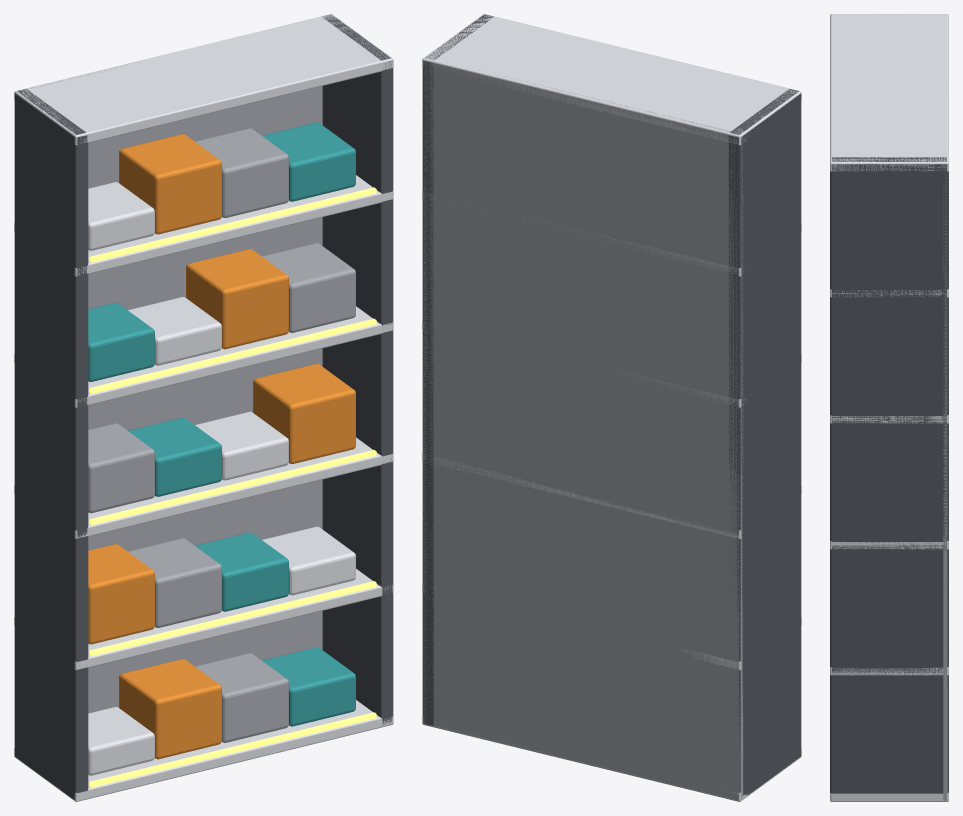
File: bookshelf_open_grid.glb
3 views of the same model, side by side, from view 1: azimuth 30°, elevation 25°; view 2: azimuth 150°, elevation 25°; view 3: azimuth 270°, elevation 25° (orthographic). The views are drawn at different scales.
Parts seen in each view (by area): view 1: GD_bookshelf_open_grid__m0, GD_bookshelf_open_grid__m5, GD_bookshelf_open_grid__m2, GD_bookshelf_open_grid__m1, GD_bookshelf_open_grid__m3, GD_bookshelf_open_grid__m4; view 2: GD_bookshelf_open_grid__m2, GD_bookshelf_open_grid__m0, GD_bookshelf_open_grid__m5; view 3: GD_bookshelf_open_grid__m0, GD_bookshelf_open_grid__m5, GD_bookshelf_open_grid__m2.
Part boxes in pixels (x1,y1,x2,y2): GD_bookshelf_open_grid__m0: (14,14,393,799); GD_bookshelf_open_grid__m5: (14,14,393,801); GD_bookshelf_open_grid__m2: (29,62,355,742); GD_bookshelf_open_grid__m1: (88,134,355,759); GD_bookshelf_open_grid__m3: (88,122,355,726); GD_bookshelf_open_grid__m4: (89,187,376,787); GD_bookshelf_open_grid__m2: (422,61,743,800); GD_bookshelf_open_grid__m0: (422,14,801,795); GD_bookshelf_open_grid__m5: (422,14,801,801); GD_bookshelf_open_grid__m0: (830,157,948,793); GD_bookshelf_open_grid__m5: (830,14,948,801); GD_bookshelf_open_grid__m2: (943,144,948,800).
Bounding box in the file's own units: 0.95 × 1.9 × 0.32.
